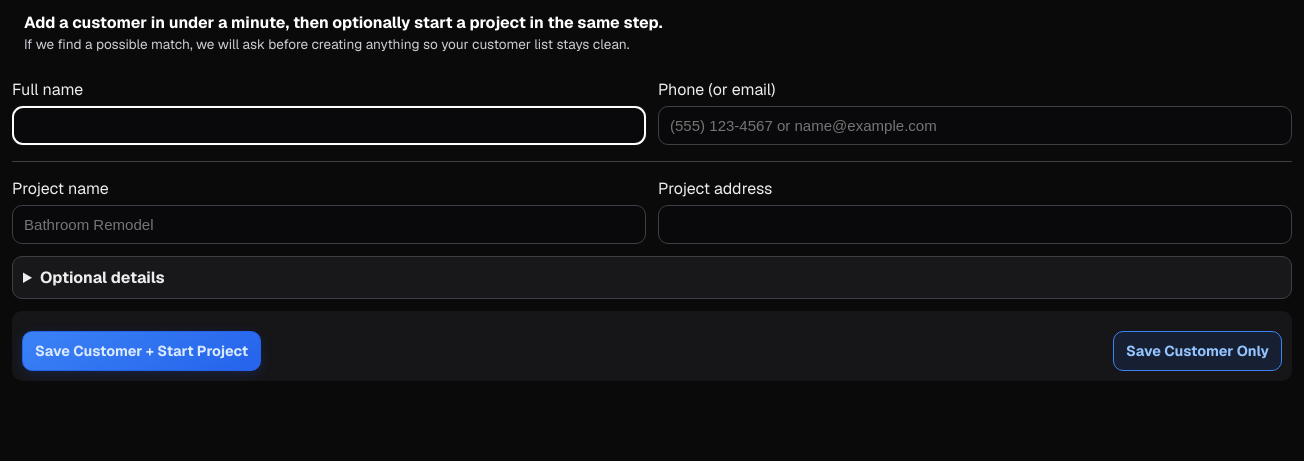
QuickAddConsole › shows project field errors on customer+project submission with empty project fields
In the field labelled "Full name": (329,126) [12,106,646,145], type "Jane Doe"
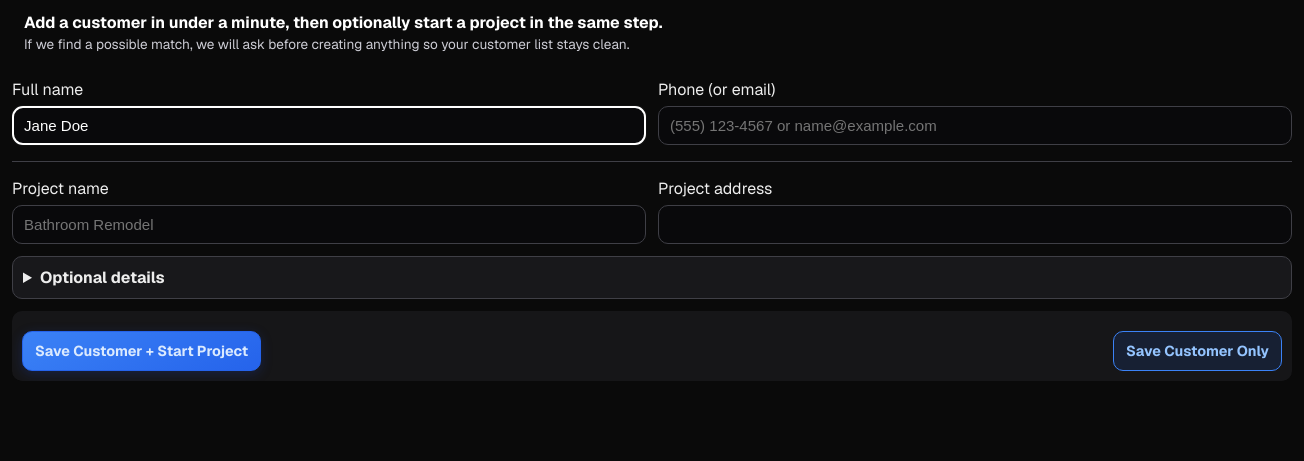
In the field labelled "Phone (or email)": (975,126) [658,106,1292,145], type "5551234567"
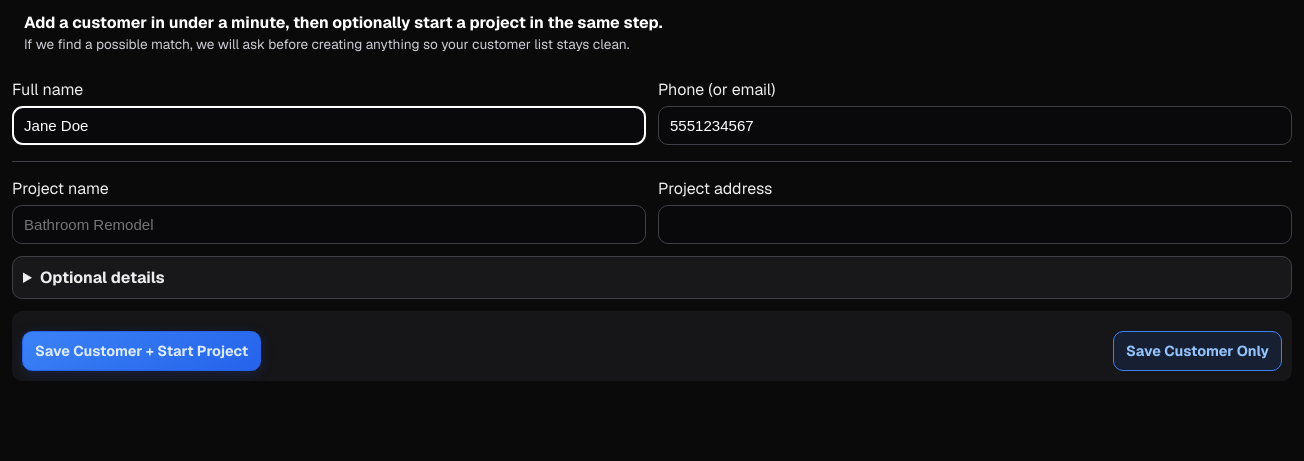
Click the button "Save Customer + Start Project": (142,351) [22,331,261,371]
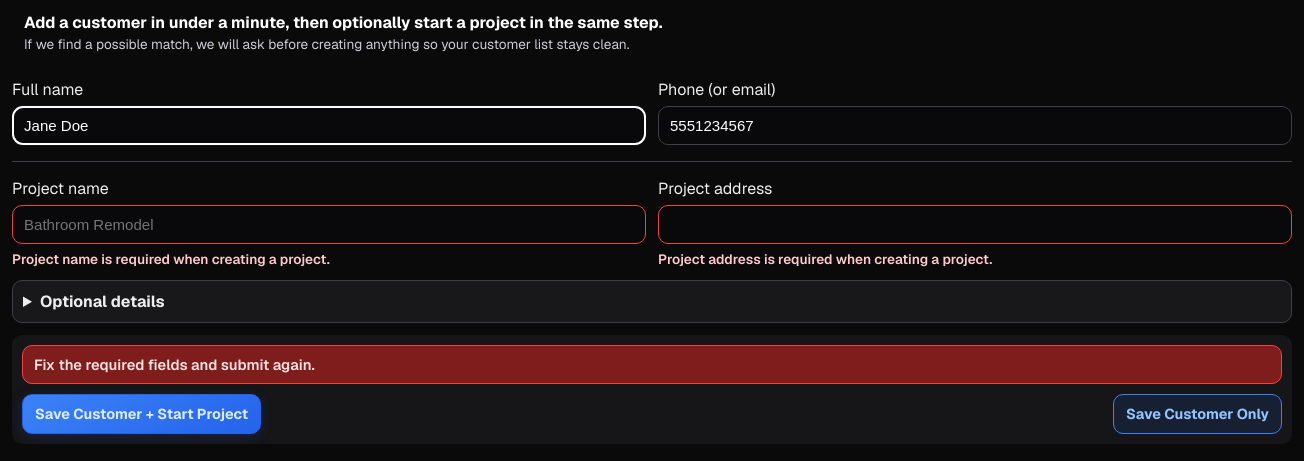
Now the text "Project name is required when creating a project." is shown, box [12,250,330,268]
Now the text "Project address is required when creating a project." is shown, box [658,250,992,268]
